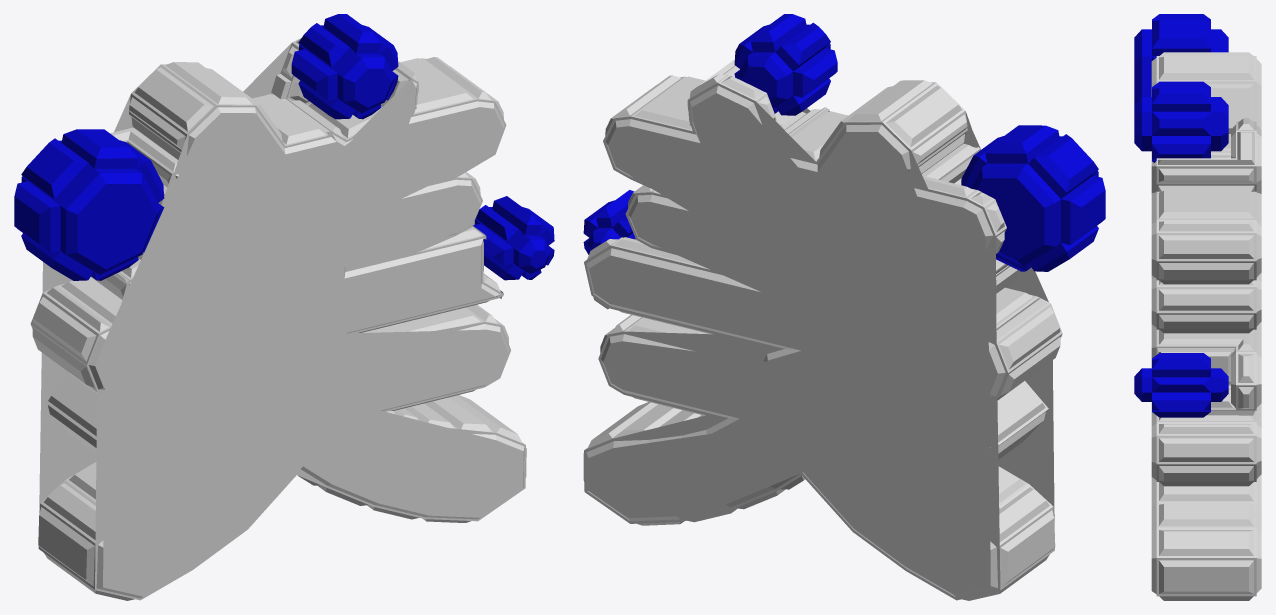
The model's file is Ch_China_美_01.fbx.
The picture shows the model from 3 angles, left to right: view 1: azimuth 30°, elevation 25°; view 2: azimuth 150°, elevation 25°; view 3: azimuth 270°, elevation 25°; orthographic projection. The views are drawn at different scales.
Parts seen in each view (by area): view 1: sphere1; view 2: sphere1; view 3: sphere1.
Part boxes in pixels (x1=…): sphere1: x1=14, y1=14, x2=554, y2=600; sphere1: x1=583, y1=14, x2=1105, y2=600; sphere1: x1=1134, y1=14, x2=1261, y2=600.
Size of the model in its own units: 1.05 by 1.02 by 0.2541.
